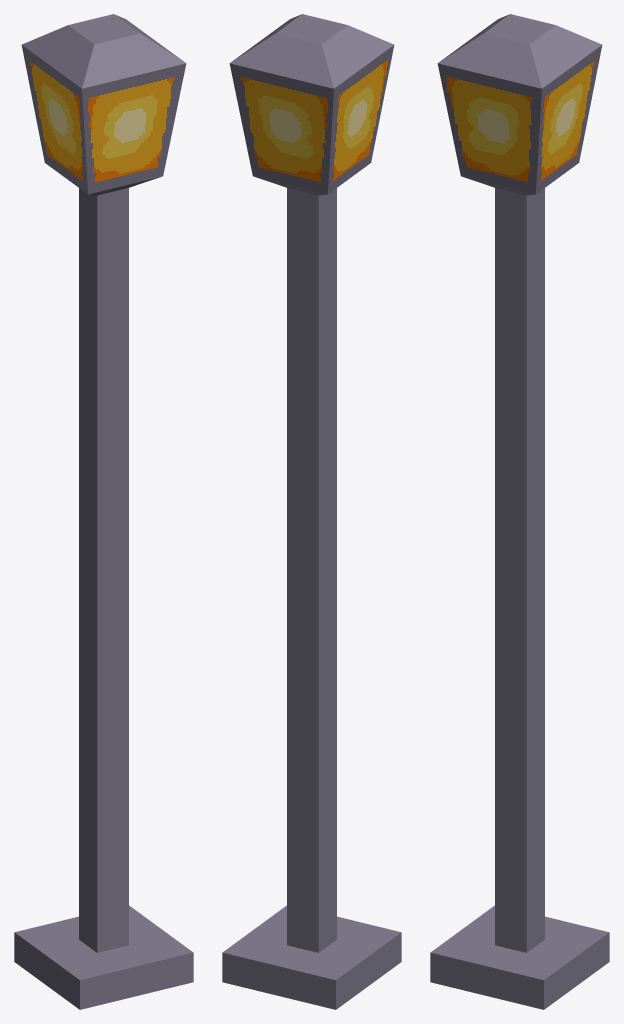
File: Lampadaire.glb
3 views of the same model, side by side, from view 1: azimuth 30°, elevation 25°; view 2: azimuth 150°, elevation 25°; view 3: azimuth 330°, elevation 25° (orthographic).
Parts seen in each view (by area): view 1: Cube; view 2: Cube; view 3: Cube.
Boxes of the visible parts, left/top/right/bottom form: Cube: left=14, top=14, right=193, bottom=1009; Cube: left=222, top=14, right=401, bottom=1009; Cube: left=430, top=14, right=609, bottom=1009.
Bounding box in the file's own units: 0.4 × 3.17 × 0.4.
1 material, 1 textured.
